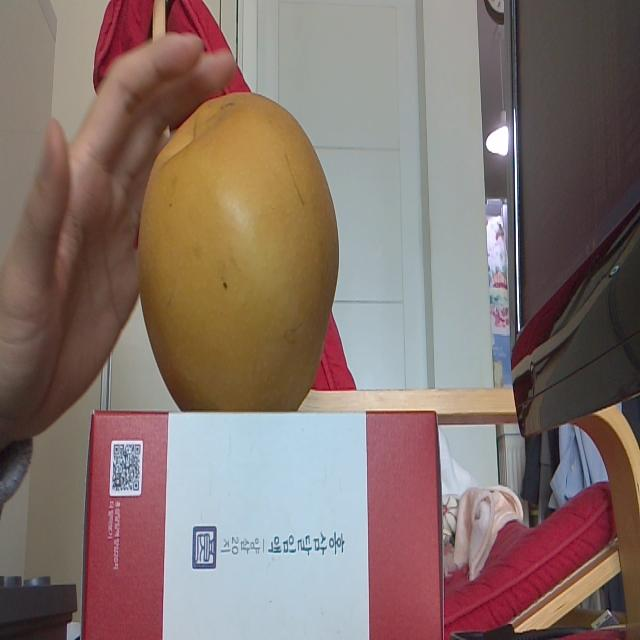pear: (140, 86, 346, 412)
